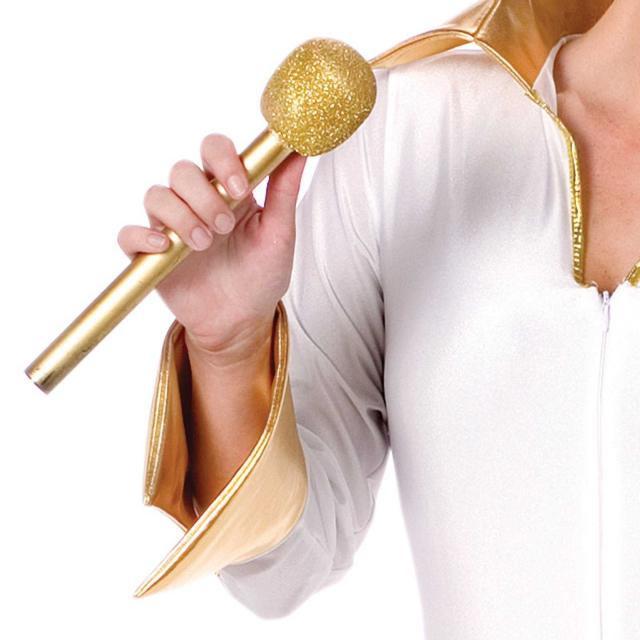microphone: (14, 38, 387, 398)
